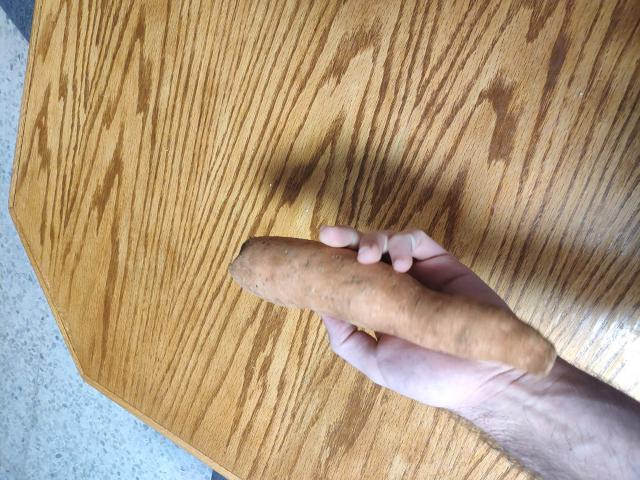sweet_potato: (183, 218, 517, 355)
